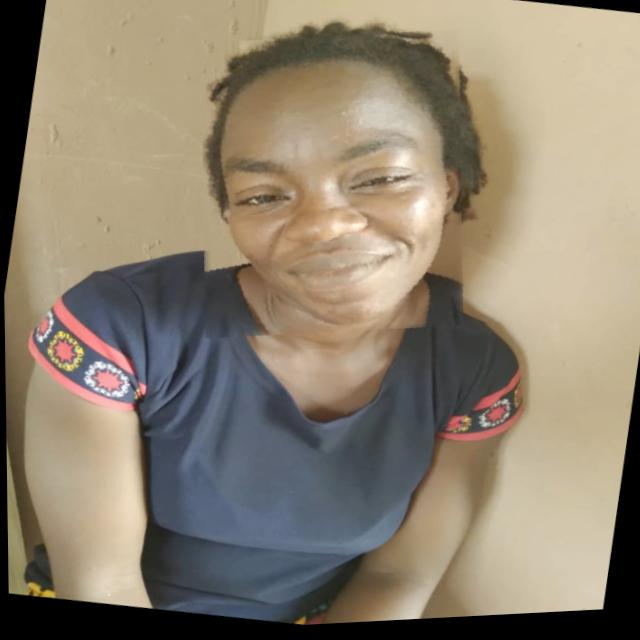happy: (167, 4, 496, 371)
